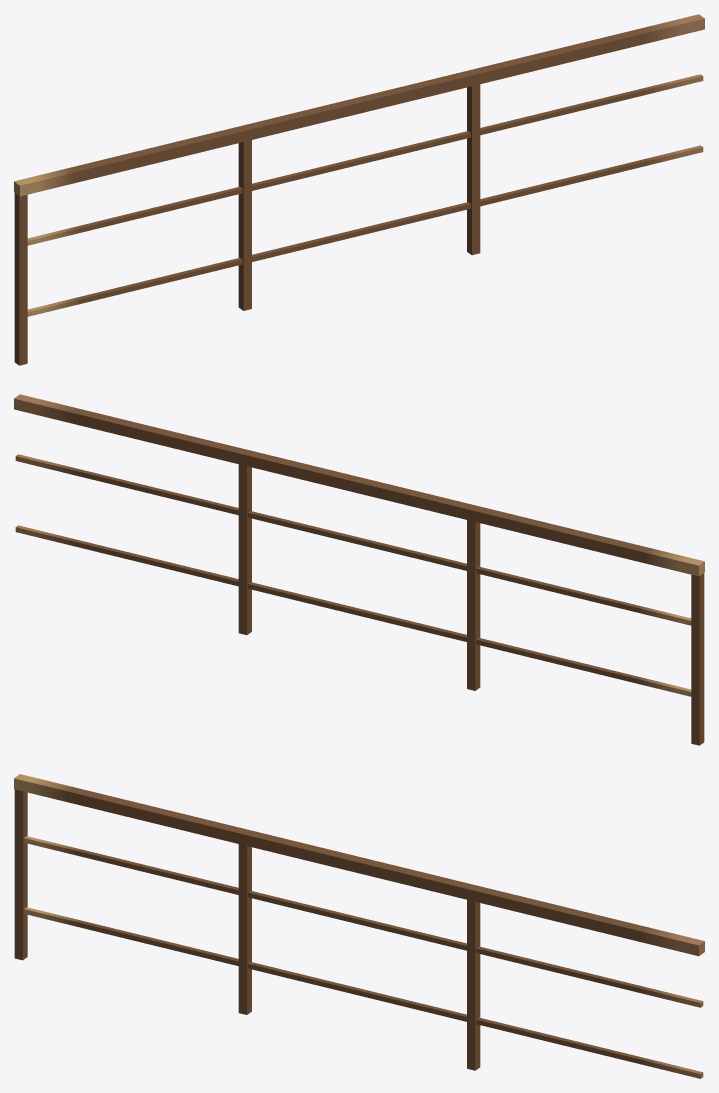
The model's file is DBK_Stairs_Rail_Metal_Tile.fbx.
3 views of the same model, one above another, from view 1: azimuth 30°, elevation 25°; view 2: azimuth 150°, elevation 25°; view 3: azimuth 330°, elevation 25° (orthographic).
Parts seen in each view (by area): view 1: DBK_Stairs_Rail_Metal_Tile; view 2: DBK_Stairs_Rail_Metal_Tile; view 3: DBK_Stairs_Rail_Metal_Tile.
Boxes of the visible parts, x1,y1,x2,y2 form: DBK_Stairs_Rail_Metal_Tile: (14,14,704,365); DBK_Stairs_Rail_Metal_Tile: (14,394,704,745); DBK_Stairs_Rail_Metal_Tile: (14,774,704,1078).
Bounding box in the file's own units: 300 × 75.51 × 4.53.
